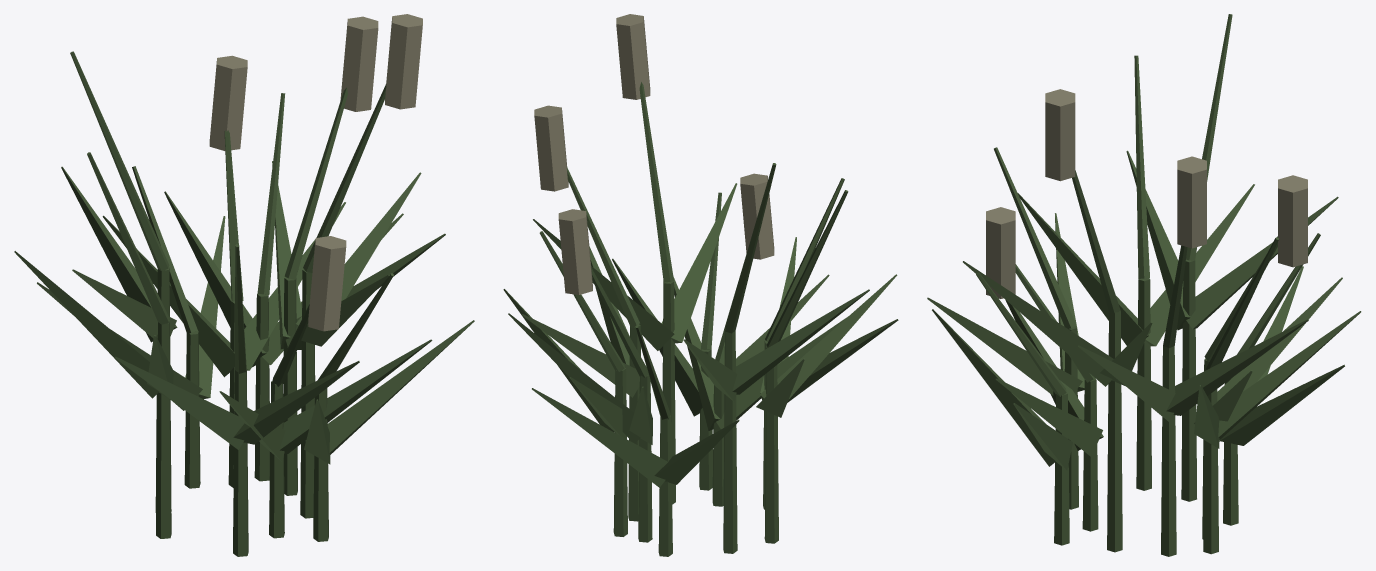
The model's file is lv119-drain-reeds.glb.
The picture shows the model from 3 angles, left to right: view 1: azimuth 30°, elevation 25°; view 2: azimuth 150°, elevation 25°; view 3: azimuth 270°, elevation 25°; orthographic projection. The views are drawn at different scales.
Visible parts, largest first — view 1: drain-reeds; view 2: drain-reeds; view 3: drain-reeds.
Part boxes in pixels (x1,y1,x2,y2): drain-reeds: [14, 14, 474, 556]; drain-reeds: [503, 14, 898, 556]; drain-reeds: [927, 14, 1361, 556].
Bounding box in the file's own units: 0.6015 × 0.7774 × 0.6293.
